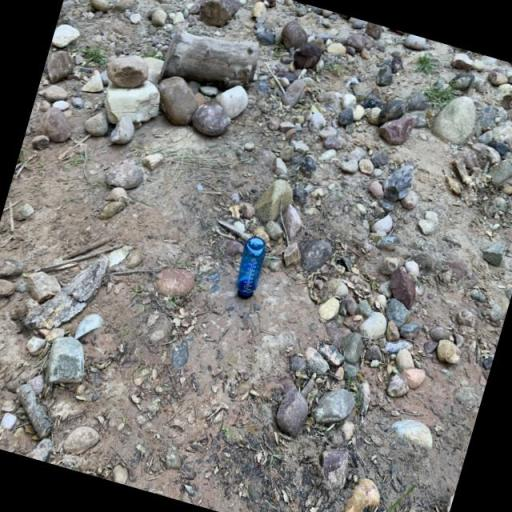bottle: (229, 234, 270, 302)
